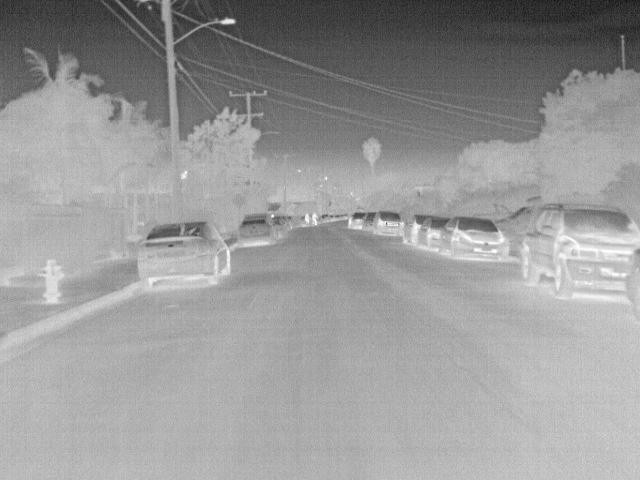car: (519, 203, 639, 297), (137, 220, 231, 292), (439, 216, 511, 262), (235, 214, 275, 248), (418, 218, 450, 253), (401, 214, 428, 246), (371, 211, 405, 236), (348, 210, 367, 229), (273, 220, 286, 238)
person: (309, 211, 319, 225), (302, 212, 311, 224)
